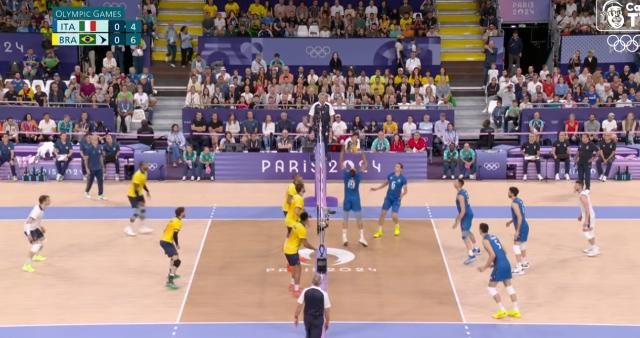Levantador: (161, 208, 185, 290), (381, 163, 404, 235)
Libero: (20, 194, 50, 274), (572, 181, 602, 259)
bola: (349, 144, 359, 158)
